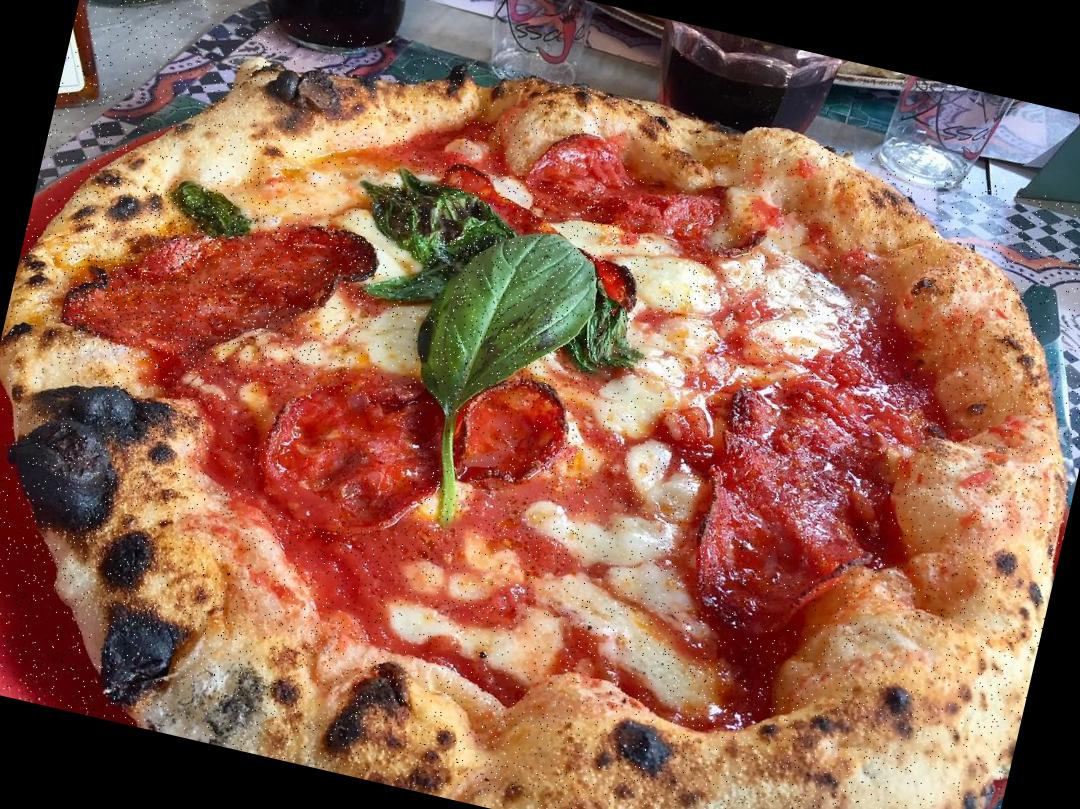Basil: (429, 225, 586, 426), (373, 176, 498, 268)
Ham: (42, 172, 379, 412), (667, 376, 877, 660), (428, 158, 662, 300), (256, 382, 432, 535), (518, 132, 718, 245), (444, 364, 575, 503)
Pizza: (0, 0, 1080, 809)
